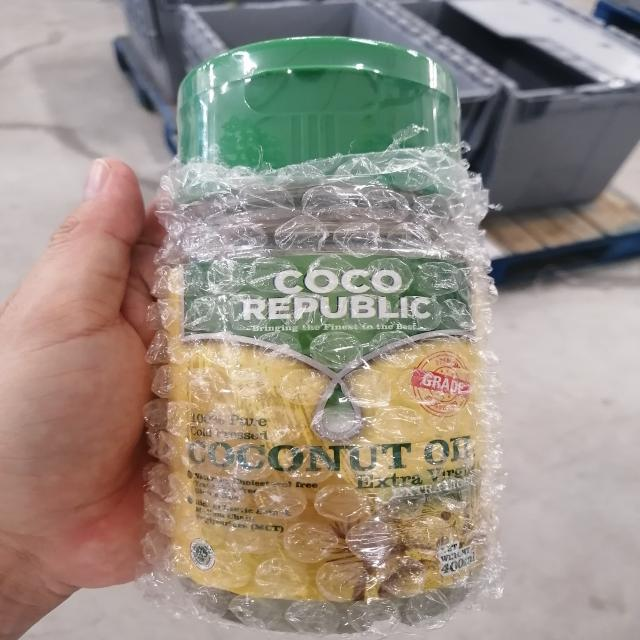object_name: (179, 60, 492, 611)
